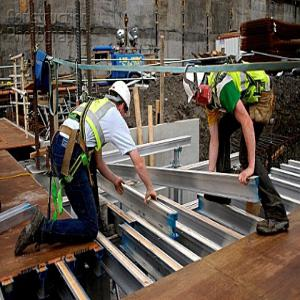white: (184, 64, 208, 107), (109, 77, 132, 120)
